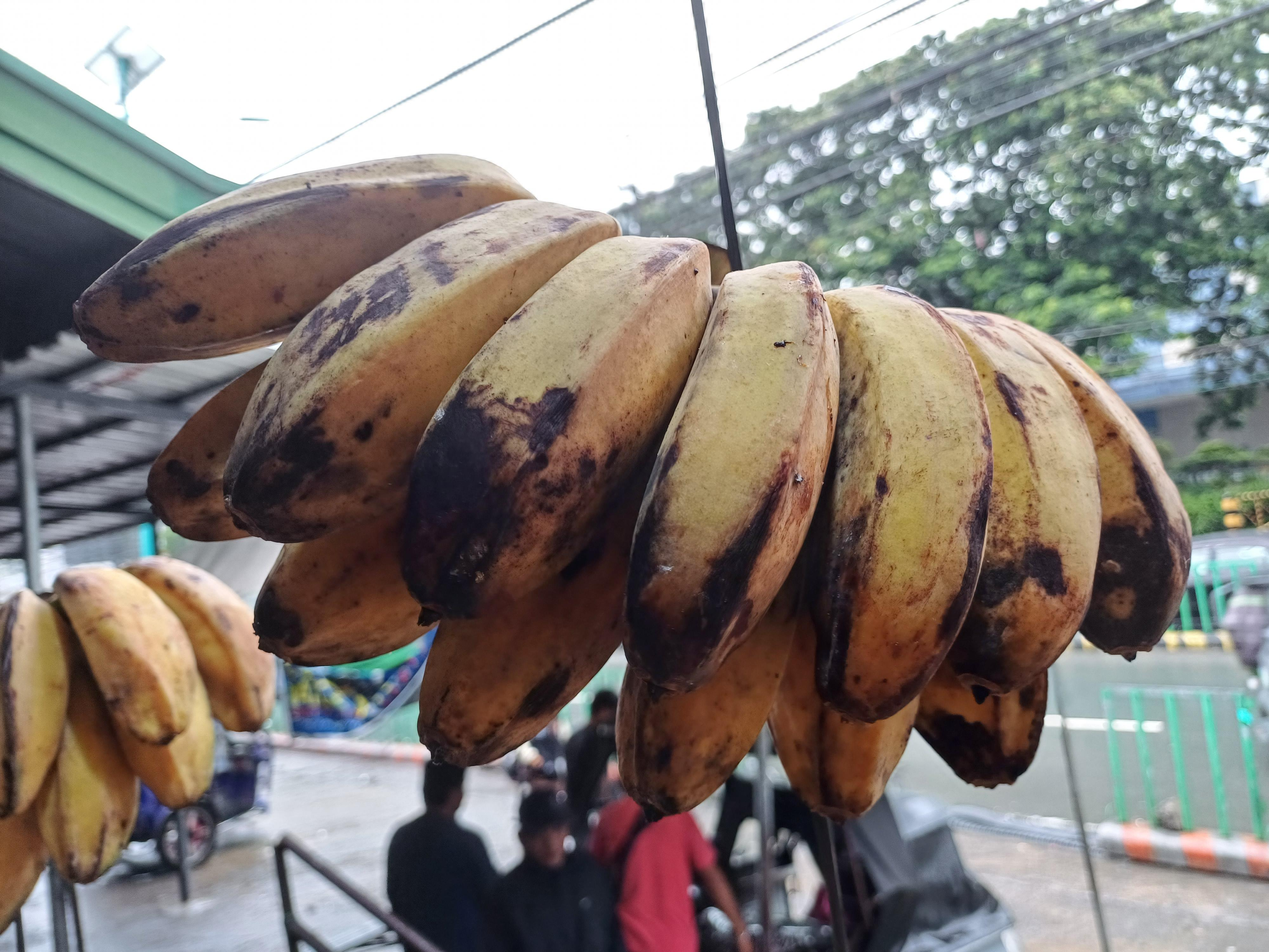ripe: (71, 155, 1195, 816), (0, 554, 281, 931)
